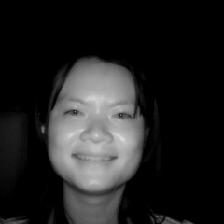happy: (27, 38, 173, 201)
